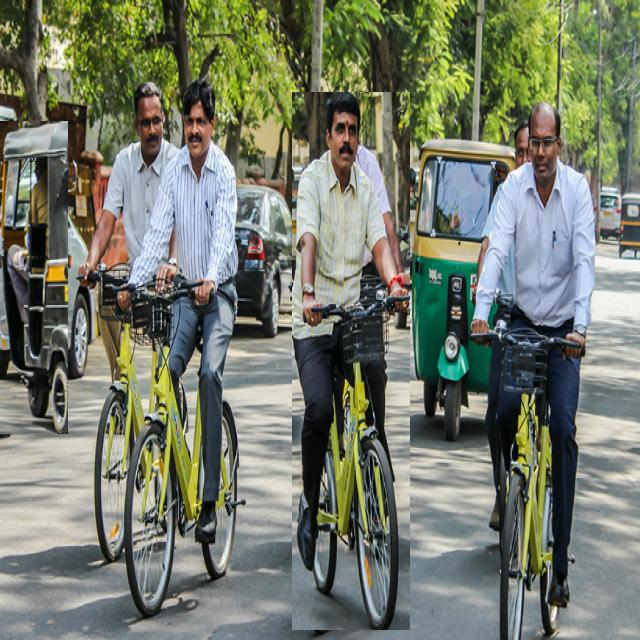autorickshaw: (412, 139, 514, 438), (0, 122, 68, 434), (619, 194, 640, 257)
bicycle: (470, 102, 595, 637), (292, 92, 410, 630), (125, 79, 239, 614), (79, 81, 178, 561)
car: (235, 183, 304, 337), (600, 187, 621, 238)
